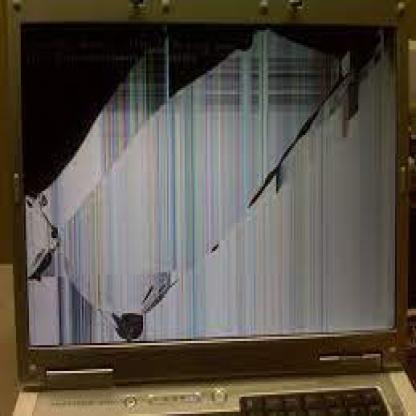crack: (18, 26, 400, 347)
lines: (159, 112, 236, 232), (217, 62, 324, 112)
